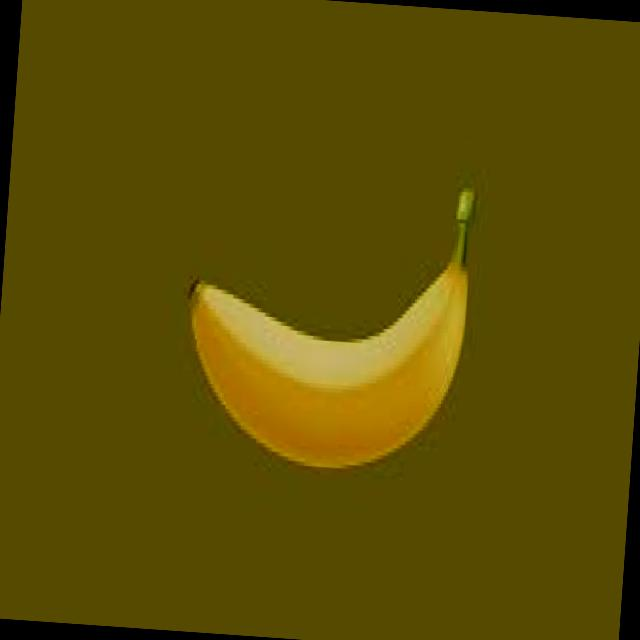Banana: (166, 146, 491, 498)
